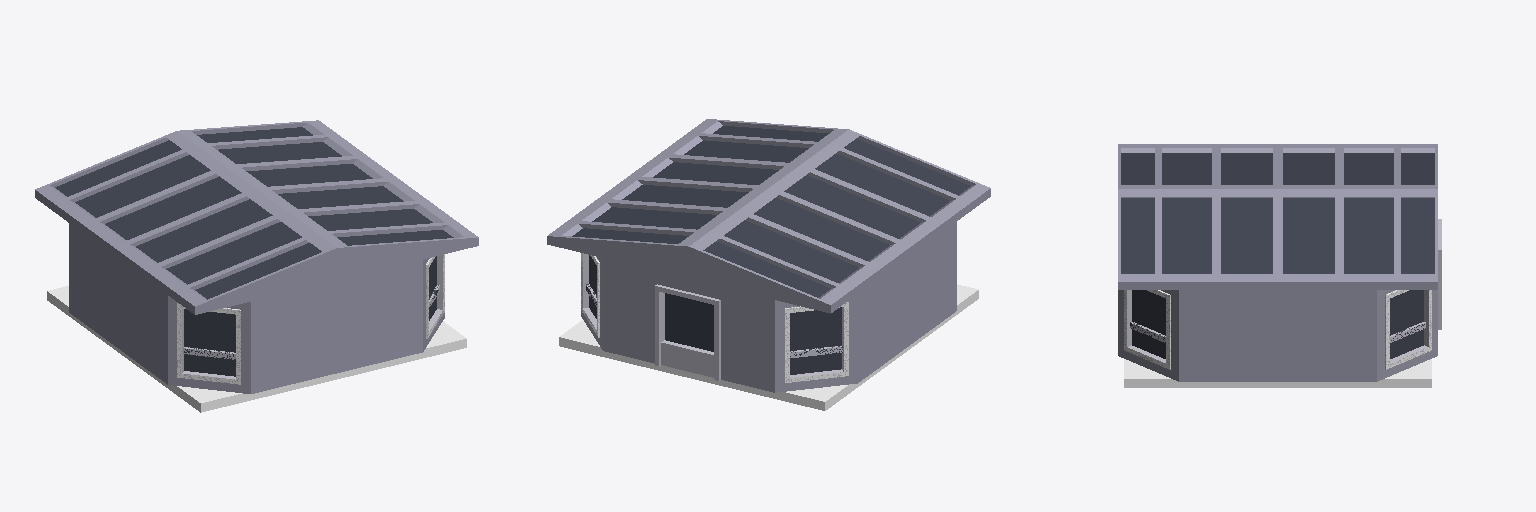
The model's file is command_center.obj.
3 renders of one model, left to right at view 1: azimuth 30°, elevation 25°; view 2: azimuth 150°, elevation 25°; view 3: azimuth 270°, elevation 25°, orthographic.
Size of the model in its own units: 3.2 by 1.45 by 3.17.